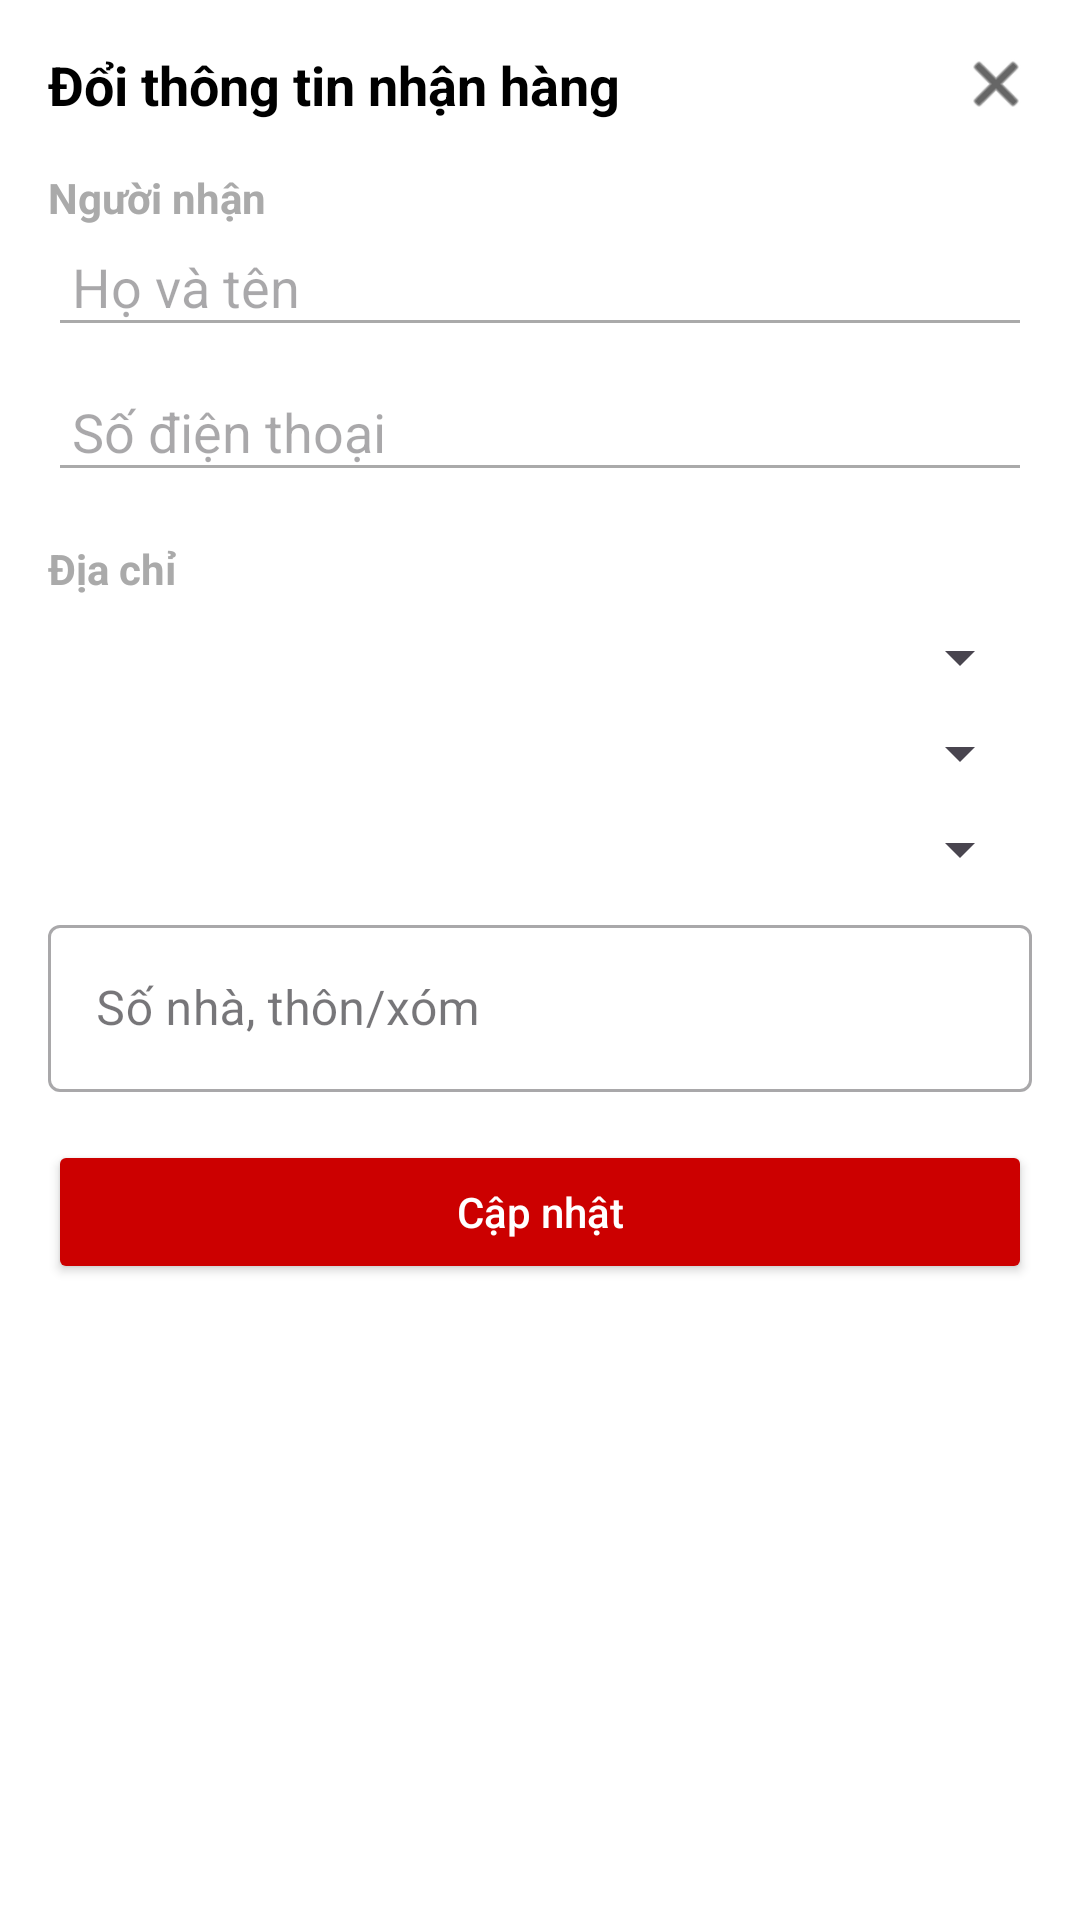

Icons on this 1080×1920 Android screen, each with its box as box=[x1, y1, x2, y2]:
close clear cancel: box=[973, 61, 1019, 107]
